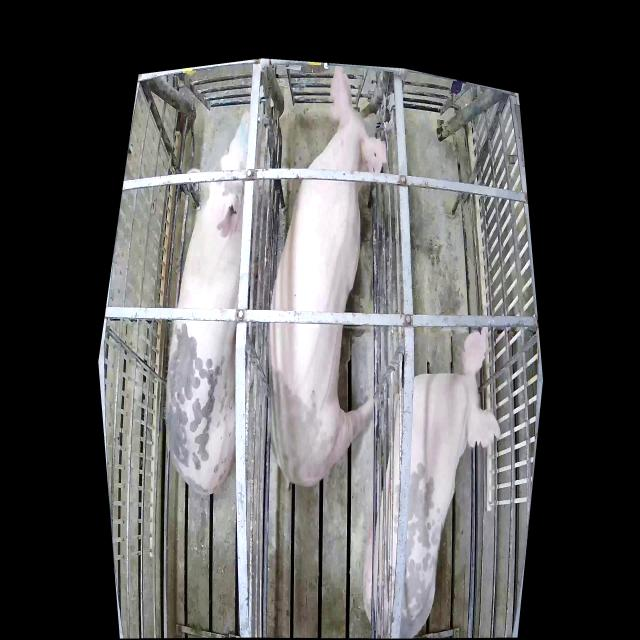pig: (269, 65, 387, 488), (363, 330, 502, 639), (167, 112, 261, 494)
